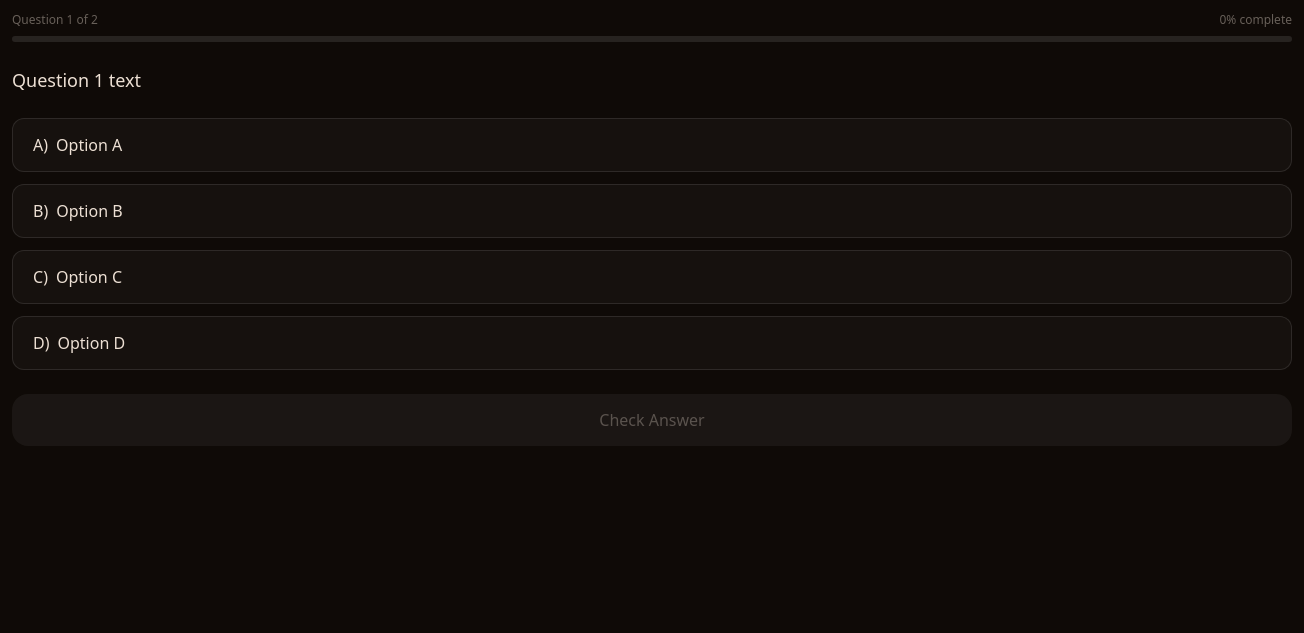
Scenario: QuizRenderer — navigation › advances to the second question after clicking "Next Question"
What coordinates should you click on to do the following:
click the button "B)Option B"
I would click on:
 (89, 211)
Its box is top-left (12, 184), bottom-right (1292, 238).
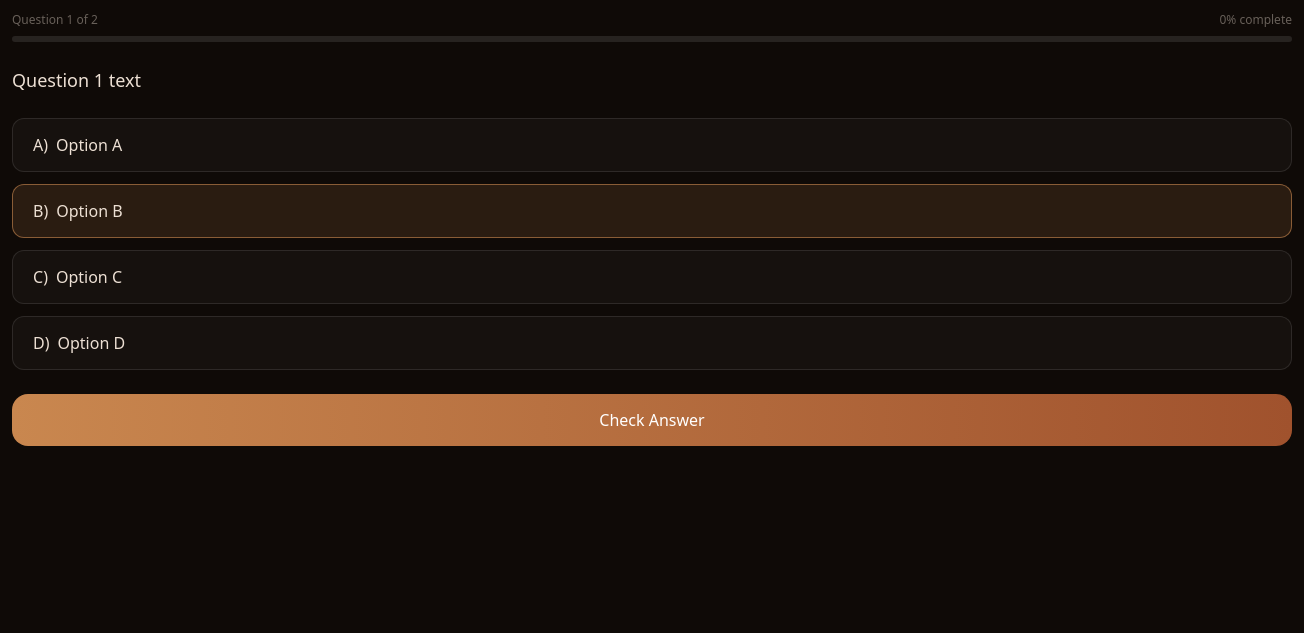
What coordinates should you click on to do the following:
click the button "Check Answer"
I would click on:
 (652, 420)
Its box is top-left (12, 394), bottom-right (1292, 446).
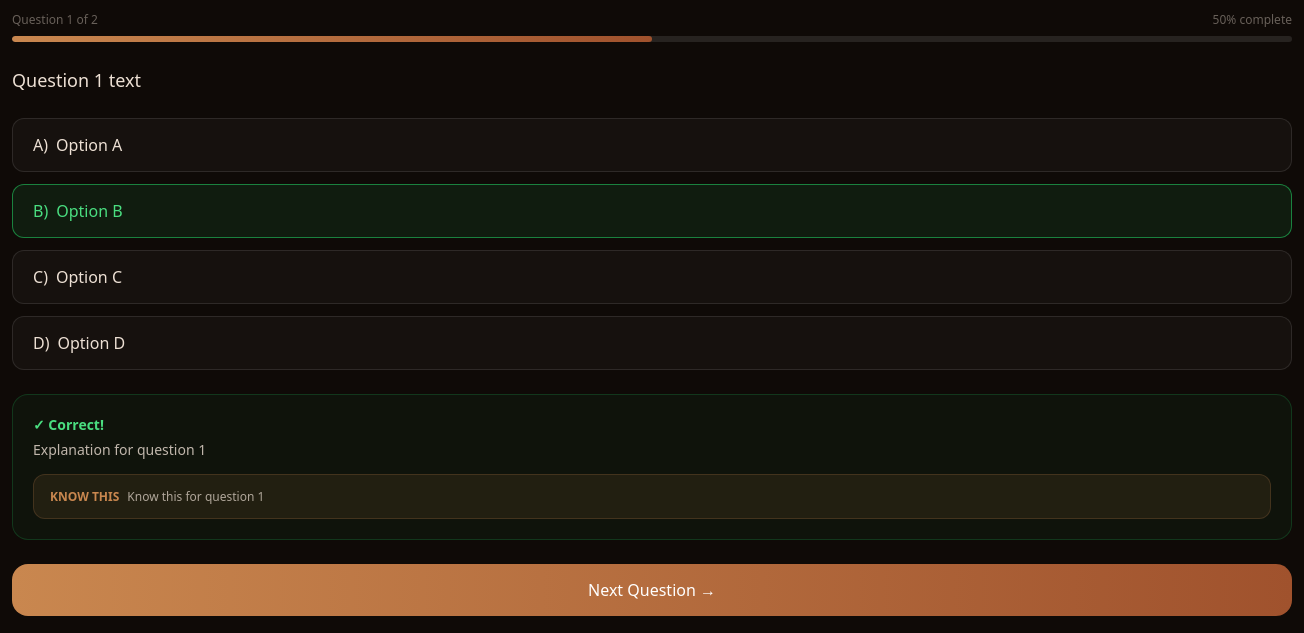
What coordinates should you click on to do the following:
click the button "Next Question →"
I would click on:
 (652, 590)
Its box is top-left (12, 564), bottom-right (1292, 616).
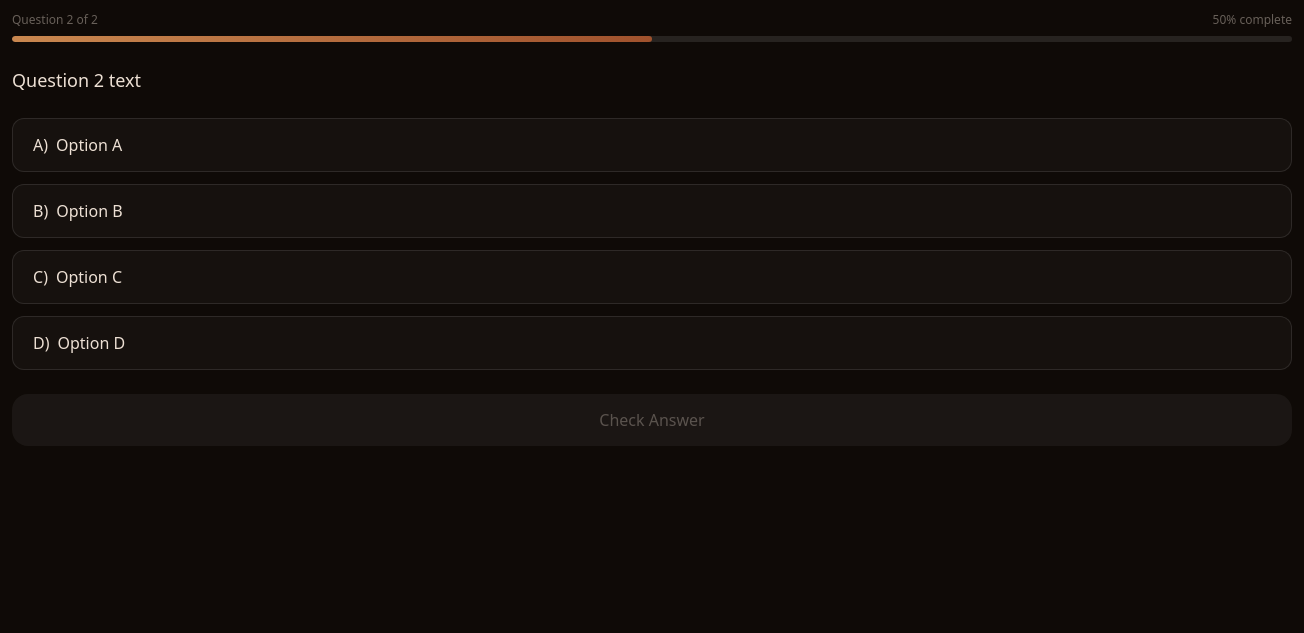
Expected: the text "Question 2 text" is shown, top-left (12, 68), bottom-right (141, 92)
Expected: the text "Question 2 of 2" is shown, top-left (12, 12), bottom-right (98, 28)
